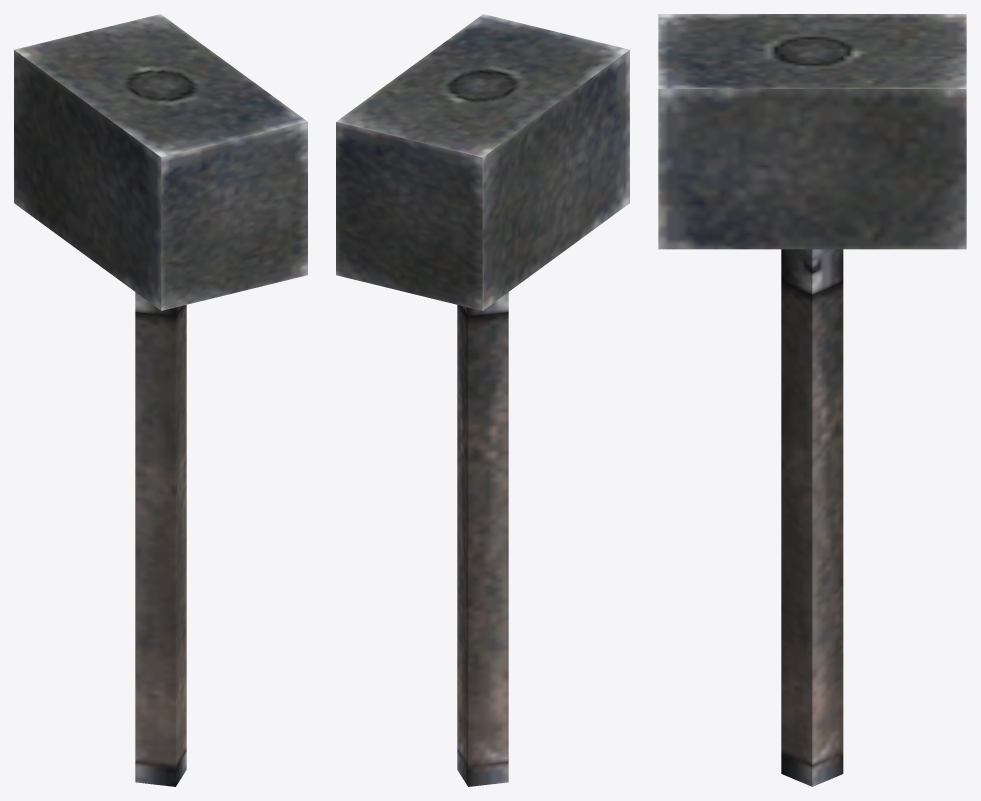
The model's file is m_molot1.glb.
3 views of the same model, side by side, from view 1: azimuth 30°, elevation 25°; view 2: azimuth 150°, elevation 25°; view 3: azimuth 270°, elevation 25° (orthographic). The views are drawn at different scales.
Parts seen in each view (by area): view 1: m_molot1-col; view 2: m_molot1-col; view 3: m_molot1-col.
Part boxes in pixels (<box>): m_molot1-col: <box>14,14,307,786</box>; m_molot1-col: <box>336,14,629,786</box>; m_molot1-col: <box>658,14,966,786</box>.
Size of the model in its own units: 0.2 by 0.9 by 0.348.
1 material, 1 textured.
